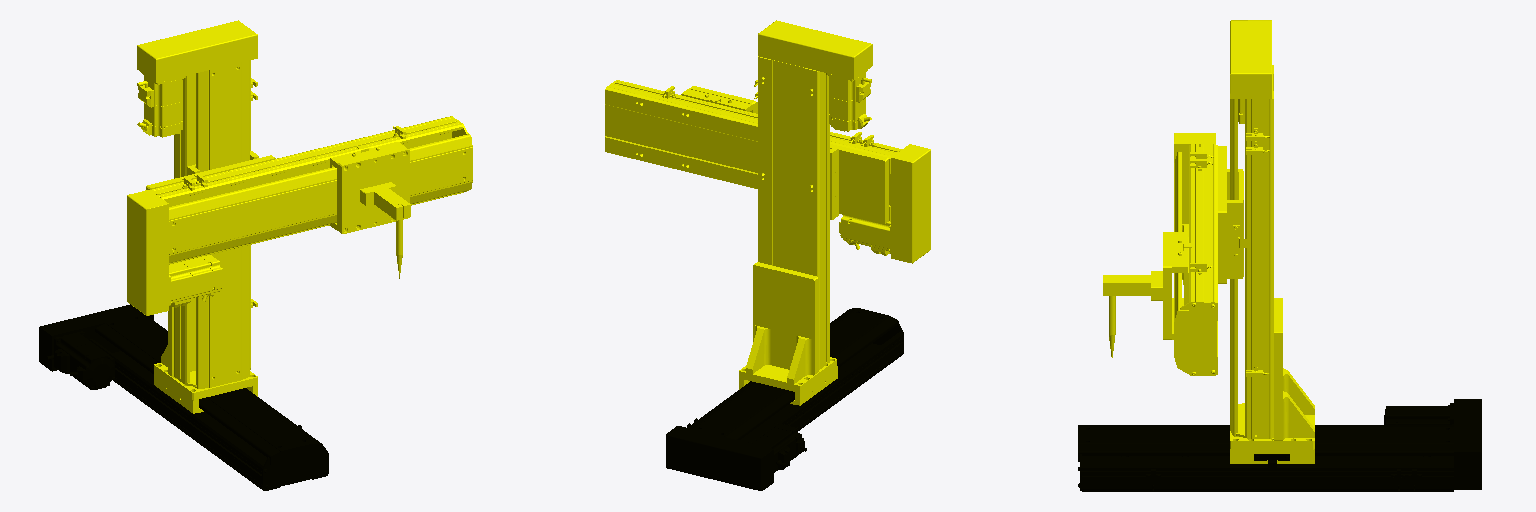
URDF robot description (XYZ):
<?xml version="1.0"?>
<robot name="XYZ">
  <link name="CS">
    <visual name="CS_visual_0">
      <origin xyz="0 0 0" rpy="0 0 0"/>
      <geometry><mesh filename="0.stl" scale="0.001 0.001 0.001"/></geometry>
      <material name="CS_material_0"><color rgba="0.0392156862745098 0.0392156862745098 0 1"/></material>
    </visual>
  </link>
  <link name="Y">
    <visual name="Y_visual_0">
      <origin xyz="0 0 -0.299" rpy="1.5707963267949 0 0"/>
      <geometry><mesh filename="1.stl" scale="0.001 0.001 0.001"/></geometry>
      <material name="Y_material_0"><color rgba="1 1 0 1"/></material>
    </visual>
  </link>
  <link name="X">
    <visual name="X_visual_0">
      <origin xyz="-0.299 0 -0.457" rpy="0 0 -1.5707963267949"/>
      <geometry><mesh filename="2.stl" scale="0.001 0.001 0.001"/></geometry>
      <material name="X_material_0"><color rgba="1 1 0 1"/></material>
    </visual>
  </link>
  <link name="A">
    <visual name="A_visual_0">
      <origin xyz="-0.191 -0.457 -0.244" rpy="-1.5707963267949 -1.5707963267949 0"/>
      <geometry><mesh filename="3.stl" scale="0.001 0.001 0.001"/></geometry>
      <material name="A_material_0"><color rgba="1 1 0 1"/></material>
    </visual>
  </link>
  <link name="T">
    <visual name="T_visual_0">
      <origin xyz="-0.032 -0.244 0.457" rpy="3.14159265358979 0 1.5707963267949"/>
      <geometry><mesh filename="4.stl" scale="0.001 0.001 0.001"/></geometry>
      <material name="T_material_0"><color rgba="1 1 0 1"/></material>
    </visual>
  </link>
  <joint name="Y" type="prismatic">
    <parent link="CS"/>
    <child link="Y"/>
    <origin xyz="0 0.299 0" rpy="-1.5707963267949 0 0"/>
    <axis xyz="0 0 1"/>
    <limit lower="-0.35" upper="0.35" effort="0" velocity="0.2"/>
  </joint>
  <joint name="X" type="prismatic">
    <parent link="Y"/>
    <child link="X"/>
    <origin xyz="0 -0.457 0" rpy="1.5707963267949 -1.5707963267949 0"/>
    <axis xyz="0 0 1"/>
    <limit lower="-0.35" upper="0.35" effort="0" velocity="0.2"/>
  </joint>
  <joint name="A" type="prismatic">
    <parent link="X"/>
    <child link="A"/>
    <origin xyz="-0.108 -0.244 0" rpy="1.5707963267949 0 0"/>
    <axis xyz="0 0 1"/>
    <limit lower="-0.35" upper="0.35" effort="0" velocity="0.2"/>
  </joint>
  <joint name="T" type="prismatic">
    <parent link="A"/>
    <child link="T"/>
    <origin xyz="-0.159 0 0" rpy="1.5707963267949 0 0"/>
    <axis xyz="0 0 1"/>
    <limit lower="-0.35" upper="0.35" effort="0" velocity="0.2"/>
  </joint>
  <link name="T_tip"/>
  <joint name="T_tip_fixed_joint" type="fixed">
    <parent link="T"/>
    <child link="T_tip"/>
    <origin xyz="0 0 0" rpy="0 0 0"/>
  </joint>
</robot>

--- What the picture shows (computed from the rendered views, not written in the file) ---
3 views of the same robot in one strip: view 1: azimuth 30°, elevation 25°; view 2: azimuth 150°, elevation 25°; view 3: azimuth 270°, elevation 25° (orthographic).
Robot: XYZ — 6 links, 5 joints (4 prismatic, 1 fixed); root link CS; default pose: every joint at zero.
Visible links, largest first — view 1: X, Y, CS, A; view 2: Y, X, CS, A; view 3: CS, Y, X, A.
Link boxes in pixels (x1,y1,x2,y2): X: (127, 116, 472, 315); Y: (137, 20, 257, 413); CS: (39, 304, 328, 490); A: (330, 142, 410, 233); Y: (739, 20, 872, 405); X: (605, 80, 930, 263); CS: (666, 308, 903, 490); A: (681, 86, 757, 113); CS: (1078, 399, 1481, 491); Y: (1230, 20, 1314, 463); X: (1174, 133, 1243, 375); A: (1103, 232, 1188, 339).
Bounding box of the posed robot: 0.671 × 0.671 × 0.766 m (x, y, z).
5 mesh visuals loaded from 5 distinct referenced files (5 binary STL).
